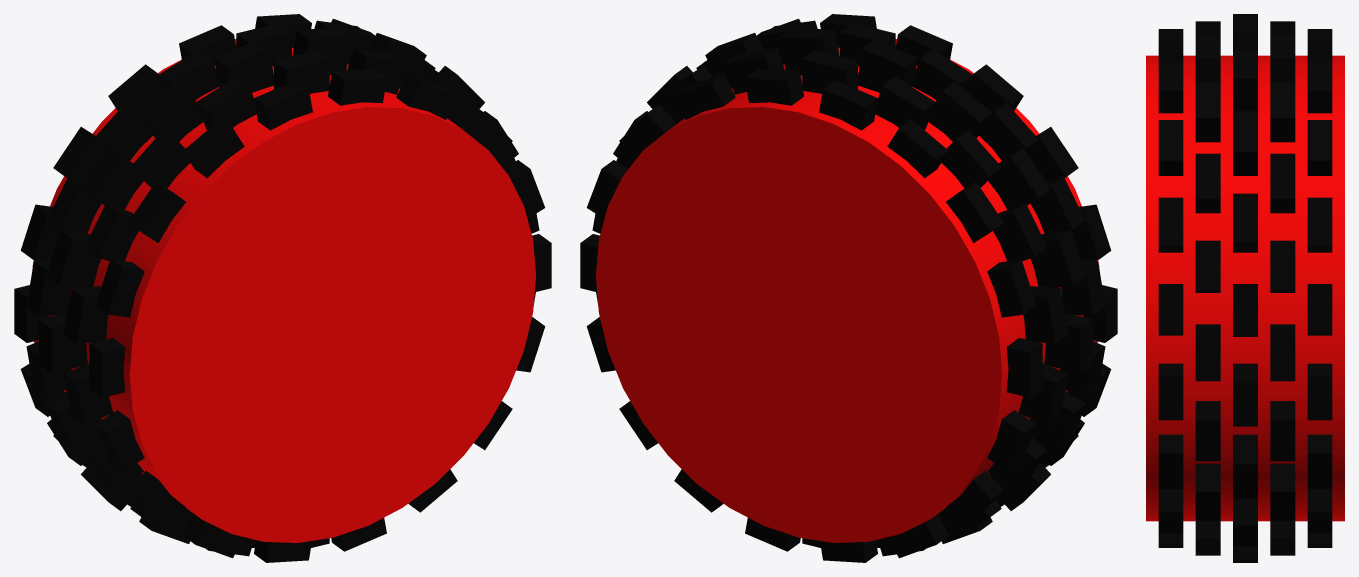
The model's file is tyre-pt5w.glb.
3 renders of one model, left to right at view 1: azimuth 30°, elevation 25°; view 2: azimuth 150°, elevation 25°; view 3: azimuth 270°, elevation 25°, orthographic.
Bounding box in the file's own units: 11 × 11.01 × 4.
